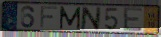5: (104, 7, 120, 31)
6: (21, 5, 36, 29)
E: (123, 6, 144, 33)
F: (39, 5, 59, 30)
M: (59, 6, 82, 30)
N: (80, 6, 102, 31)
